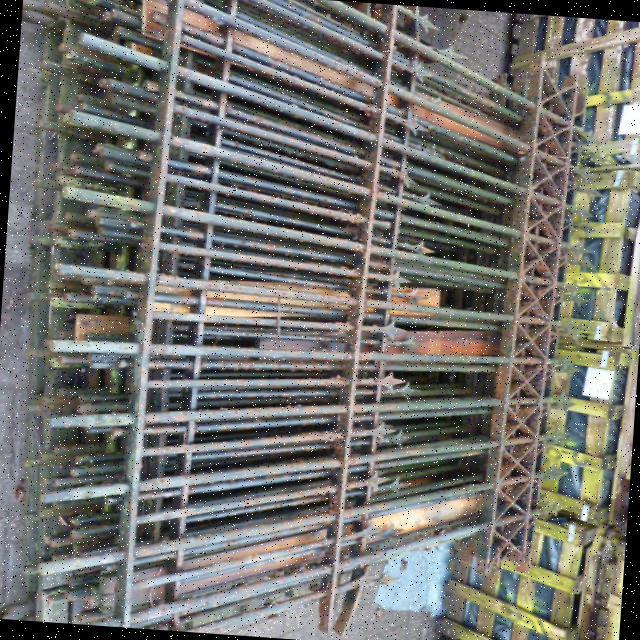fence line: (118, 60, 578, 528)
